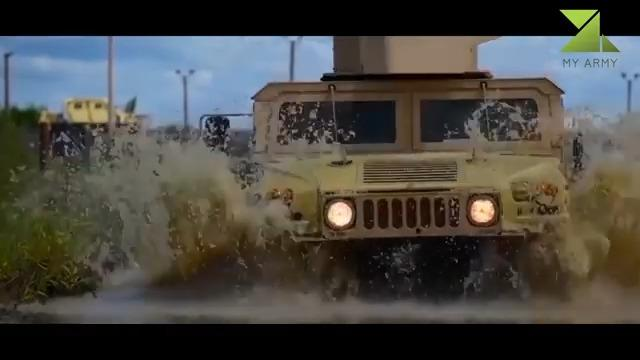MIL_HMMWV: (196, 76, 587, 294)
